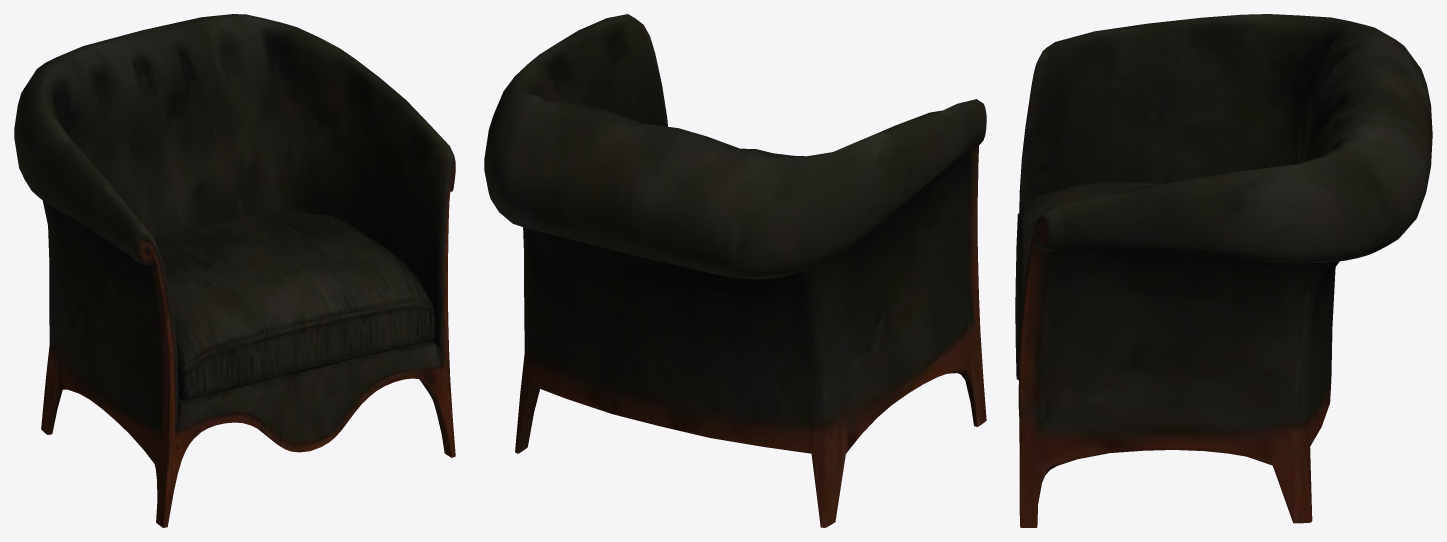
The model's file is ph-sofa-02.glb.
3 views of the same model, side by side, from view 1: azimuth 30°, elevation 25°; view 2: azimuth 150°, elevation 25°; view 3: azimuth 270°, elevation 25° (orthographic). The views are drawn at different scales.
Visible parts, largest first — view 1: sofa_02_Base; view 2: sofa_02_Base; view 3: sofa_02_Base.
Part boxes in pixels (x1,y1,x2,y2): sofa_02_Base: (14, 14, 455, 527); sofa_02_Base: (484, 14, 986, 527); sofa_02_Base: (1015, 14, 1432, 527).
Bounding box in the file's own units: 1 × 1 × 1.
Materials: 1 (1 with a texture image).
